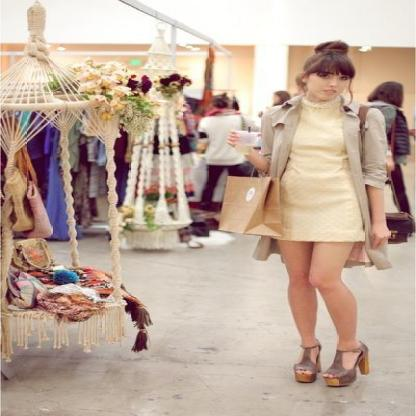bag: (214, 175, 272, 233)
dress: (262, 96, 364, 240)
jacket: (241, 105, 393, 270)
shoe: (294, 346, 368, 388)
